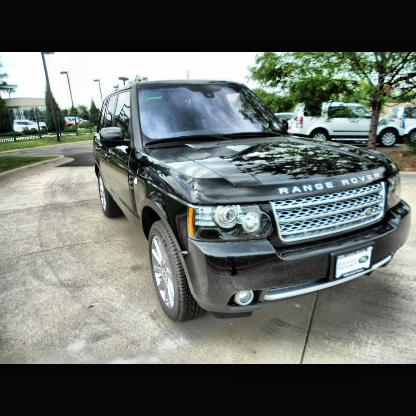Land Rover Range Rover SUV 2012: (95, 83, 410, 324)
